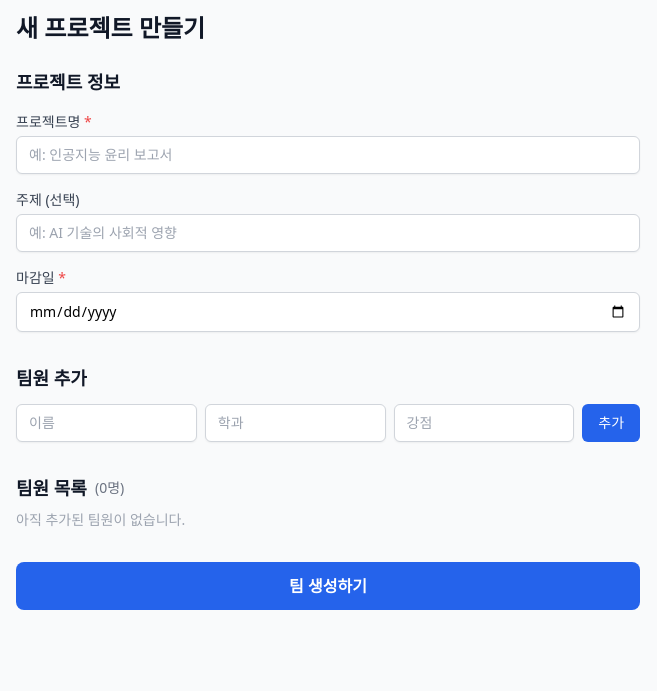
Test: TeamCreatePage 유효성 검증 › 필수 필드 누락 시 제출을 차단하고 에러 메시지를 표시한다
Click the button "팀 생성하기" at [328, 586], box [16,562,640,610]
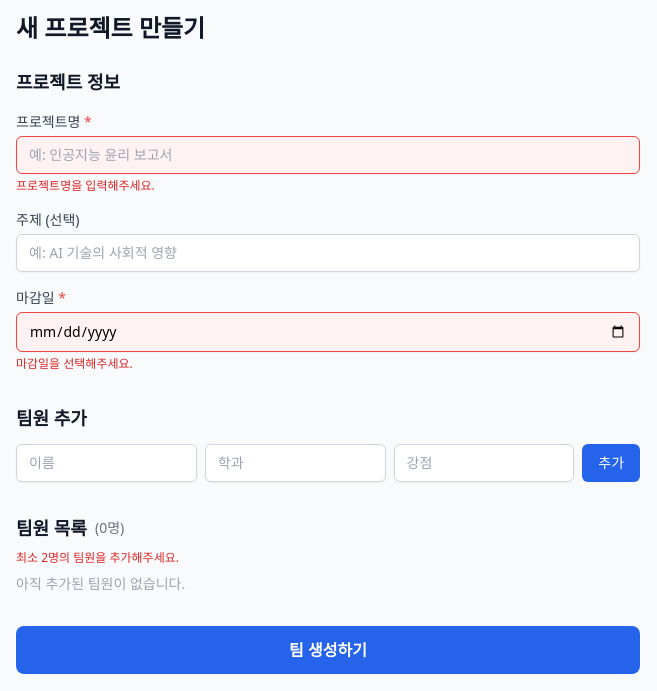
Expected: the text "프로젝트명을 입력해주세요." is shown, [16,177,155,194]
Expected: the text "마감일을 선택해주세요." is shown, [16,355,133,372]
Expected: the text "최소 2명의 팀원을 추가해주세요." is shown, [16,549,179,566]
